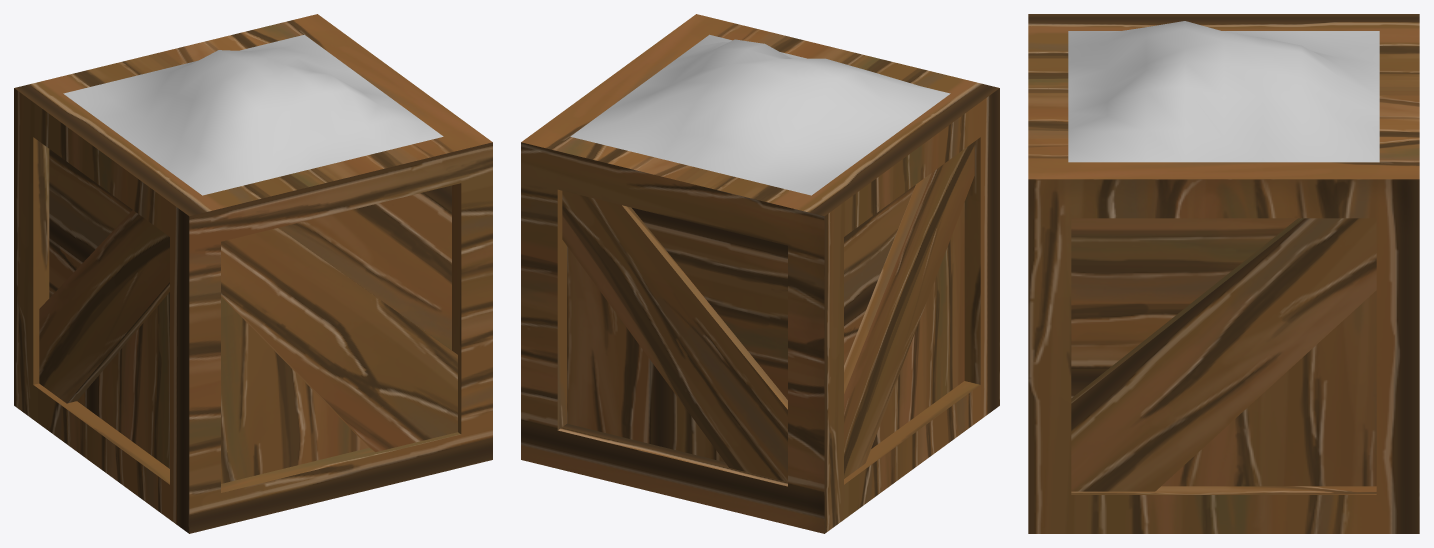
Rendered from boxed filled full.fbx.
The picture shows the model from 3 angles, left to right: view 1: azimuth 30°, elevation 25°; view 2: azimuth 150°, elevation 25°; view 3: azimuth 270°, elevation 25°; orthographic projection. The views are drawn at different scales.
Parts seen in each view (by area): view 1: Cube.171, Cube.170; view 2: Cube.171, Cube.170; view 3: Cube.171, Cube.170.
Part boxes in pixels (left/top/right/bottom): Cube.171: left=14, top=14, right=492, bottom=533; Cube.170: left=63, top=34, right=443, bottom=195; Cube.171: left=521, top=14, right=999, bottom=533; Cube.170: left=570, top=34, right=950, bottom=195; Cube.171: left=1028, top=14, right=1419, bottom=533; Cube.170: left=1068, top=21, right=1379, bottom=162.
Size of the model in its own units: 325 by 376 by 325.
